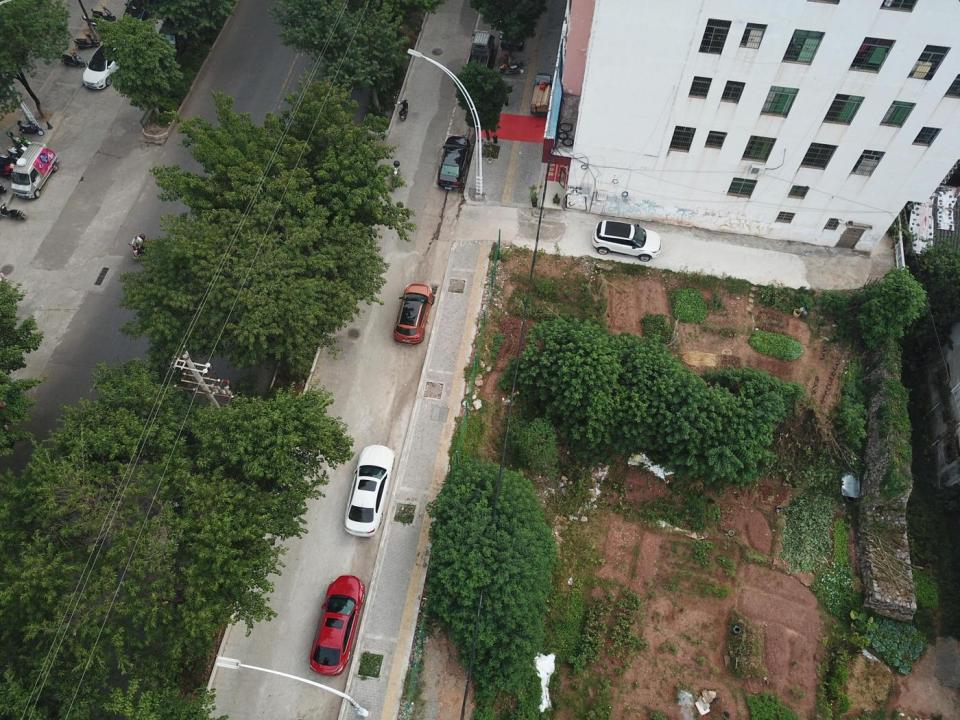car: (311, 572, 365, 679), (346, 442, 397, 538), (591, 219, 667, 260), (80, 40, 136, 94), (394, 280, 435, 350), (435, 136, 473, 192)
truck: (467, 32, 494, 74)
van: (12, 142, 60, 200)
